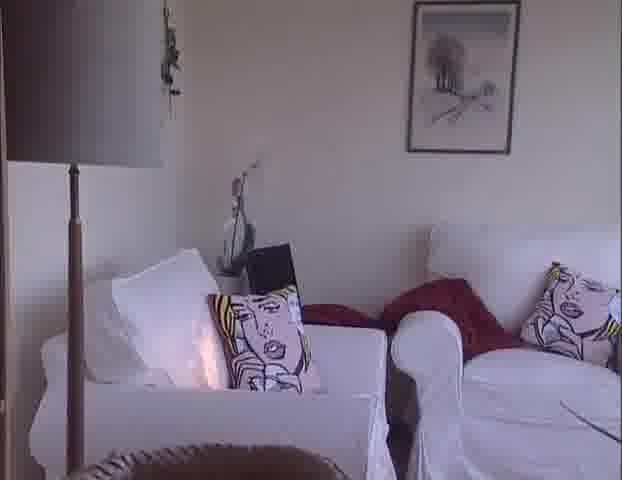fire: (193, 326, 226, 390)
